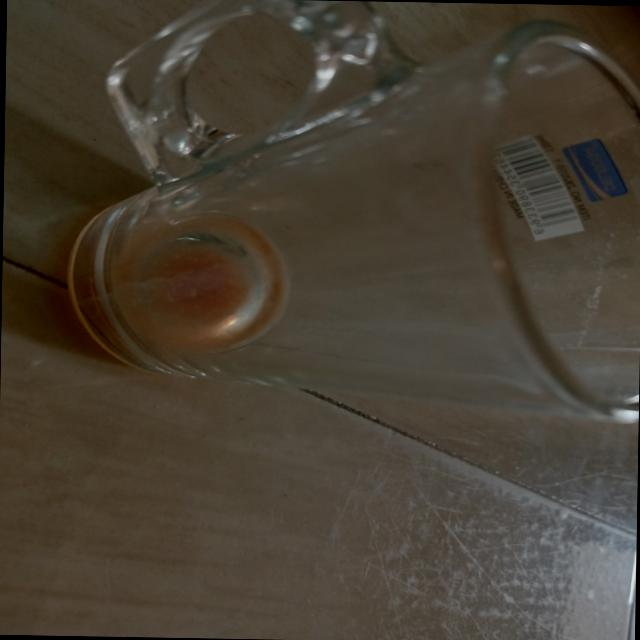glass-VX4N: (68, 0, 640, 424)
